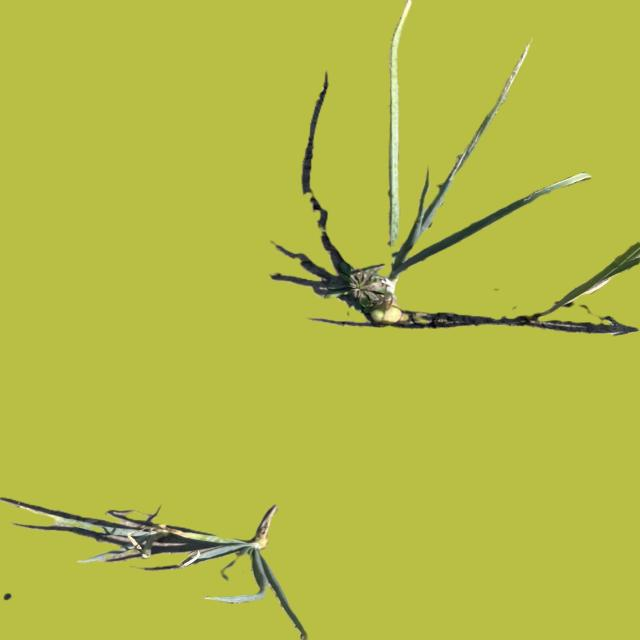Onion: (368, 60, 559, 332), (51, 506, 332, 640)
